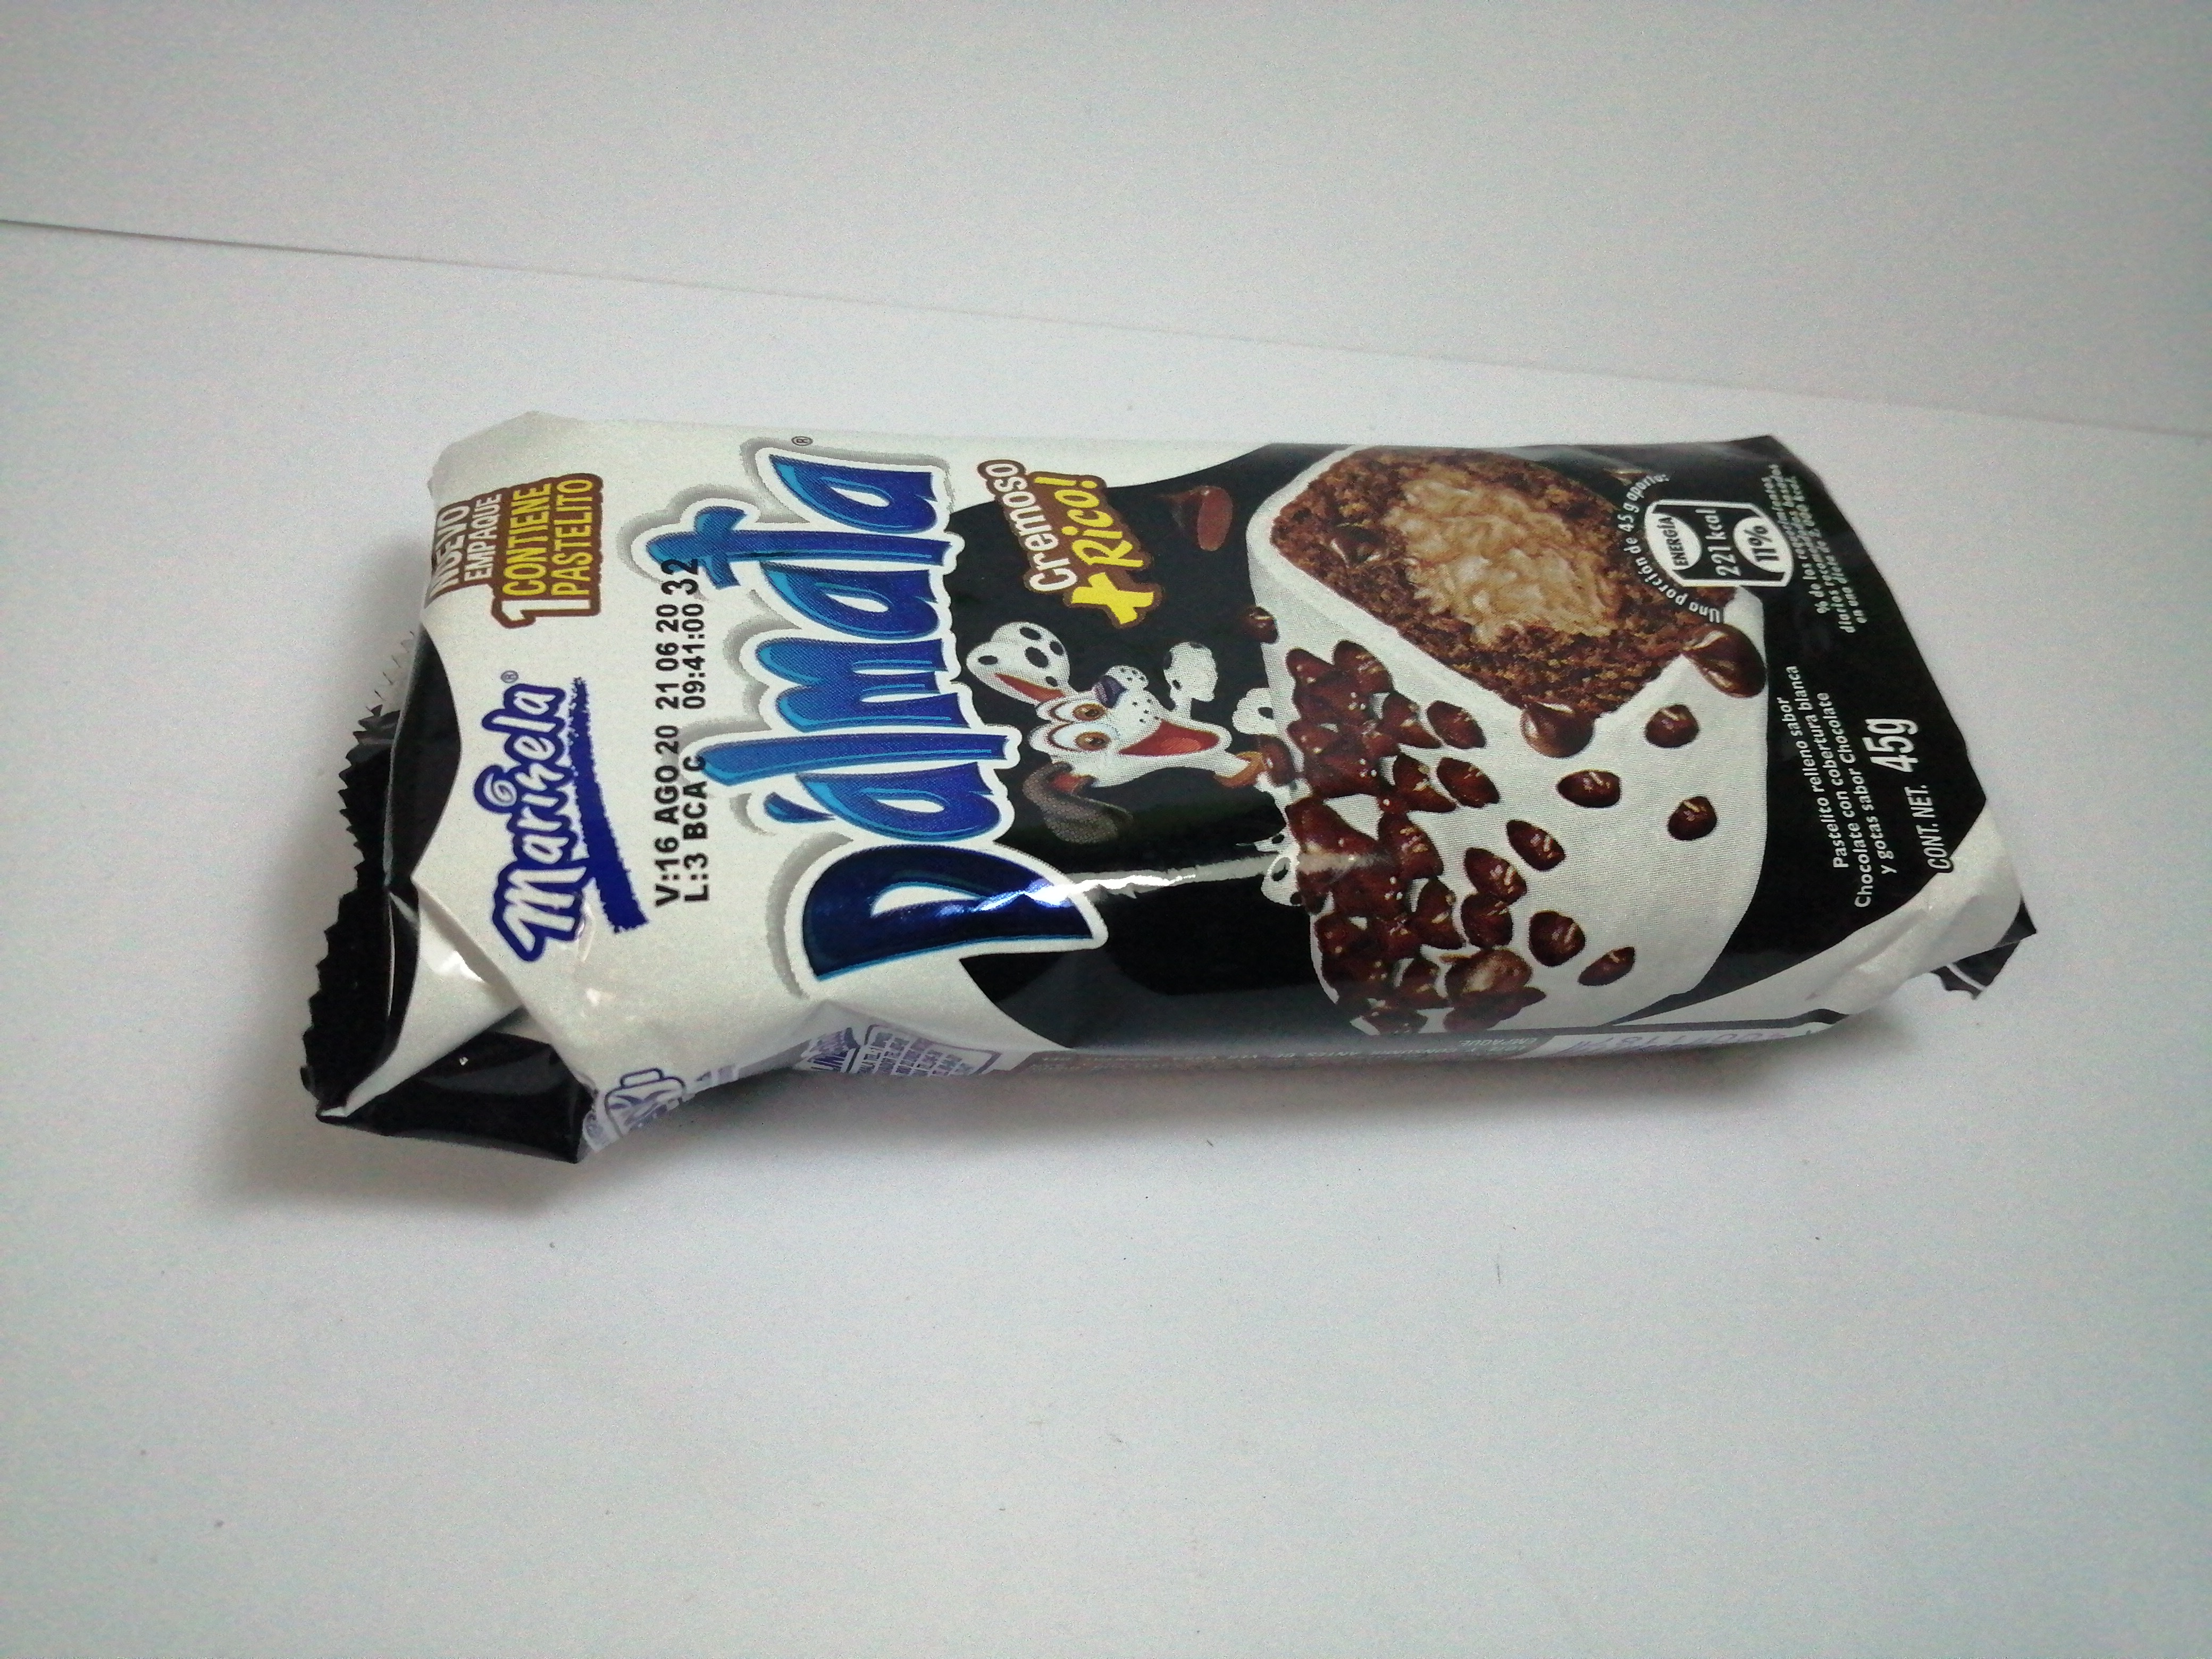dalmata: (287, 392, 2005, 1197)
